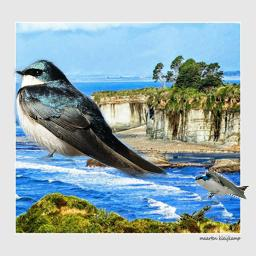Swallow: (13, 58, 169, 179), (195, 171, 250, 201)
